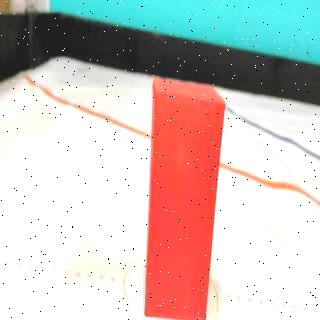redbox: (144, 75, 226, 320)
